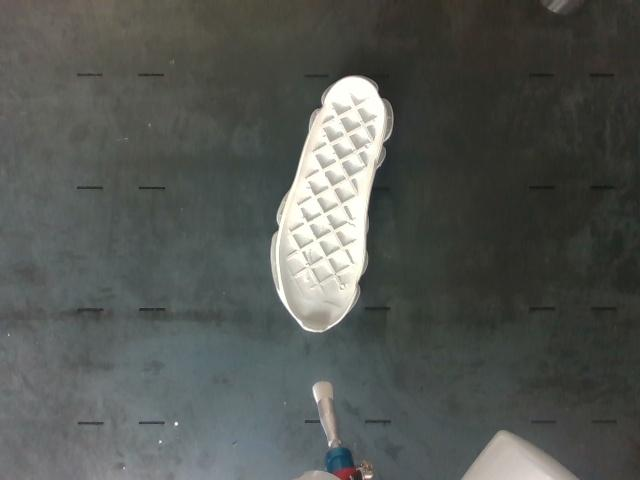shoes: (278, 77, 384, 330)
